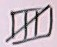kok: (1, 1, 57, 46)
